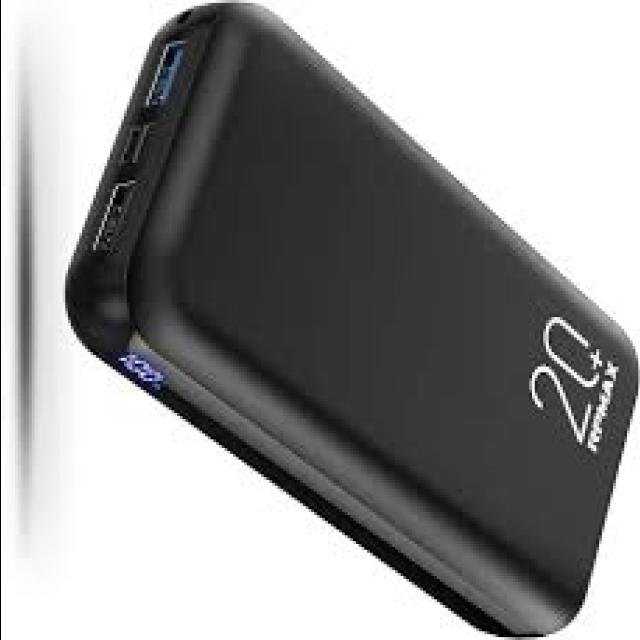power_bank: (57, 8, 636, 640)
